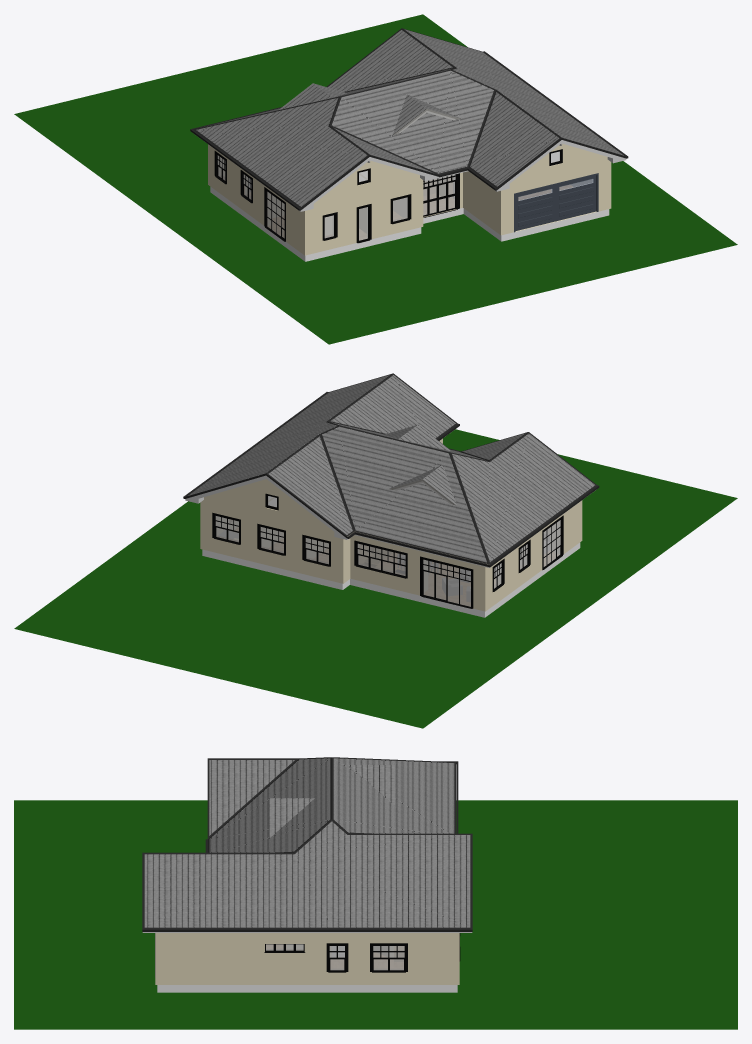
3 views of the same model, one above another, from view 1: azimuth 30°, elevation 25°; view 2: azimuth 150°, elevation 25°; view 3: azimuth 270°, elevation 25° (orthographic). The views are drawn at different scales.
Parts seen in each view (by area): view 1: site, 001.roof, Wall.001, Window, Door, Floor.003, 002._underroof, Floor; view 2: site, 001.roof, Wall.001, Window, Floor.003, Door, Floor, 002._underroof; view 3: site, 001.roof, Wall.001, Floor.003, Window.
Part boxes in pixels (left/top/right/bottom): site: left=14, top=14, right=737, bottom=344; 001.roof: left=190, top=28, right=628, bottom=210; Wall.001: left=208, top=143, right=611, bottom=255; Window: left=214, top=149, right=562, bottom=243; Door: left=243, top=173, right=598, bottom=232; Floor.003: left=210, top=187, right=609, bottom=261; 002._underroof: left=204, top=140, right=626, bottom=211; Floor: left=250, top=185, right=572, bottom=239; site: left=14, top=429, right=737, bottom=728; 001.roof: left=183, top=373, right=599, bottom=567; Wall.001: left=200, top=438, right=582, bottom=611; Window: left=212, top=493, right=563, bottom=608; Floor.003: left=202, top=542, right=580, bottom=617; Door: left=215, top=516, right=527, bottom=570; Floor: left=235, top=527, right=558, bottom=605; 002._underroof: left=185, top=436, right=595, bottom=567; site: left=14, top=800, right=737, bottom=1029; 001.roof: left=142, top=757, right=472, bottom=931; Wall.001: left=155, top=933, right=459, bottom=984; Floor.003: left=157, top=985, right=457, bottom=992; Window: left=264, top=933, right=460, bottom=972.
Size of what is drawn, in the model's own units: 30 by 7.75 by 40.
24 materials, 2 textured.
